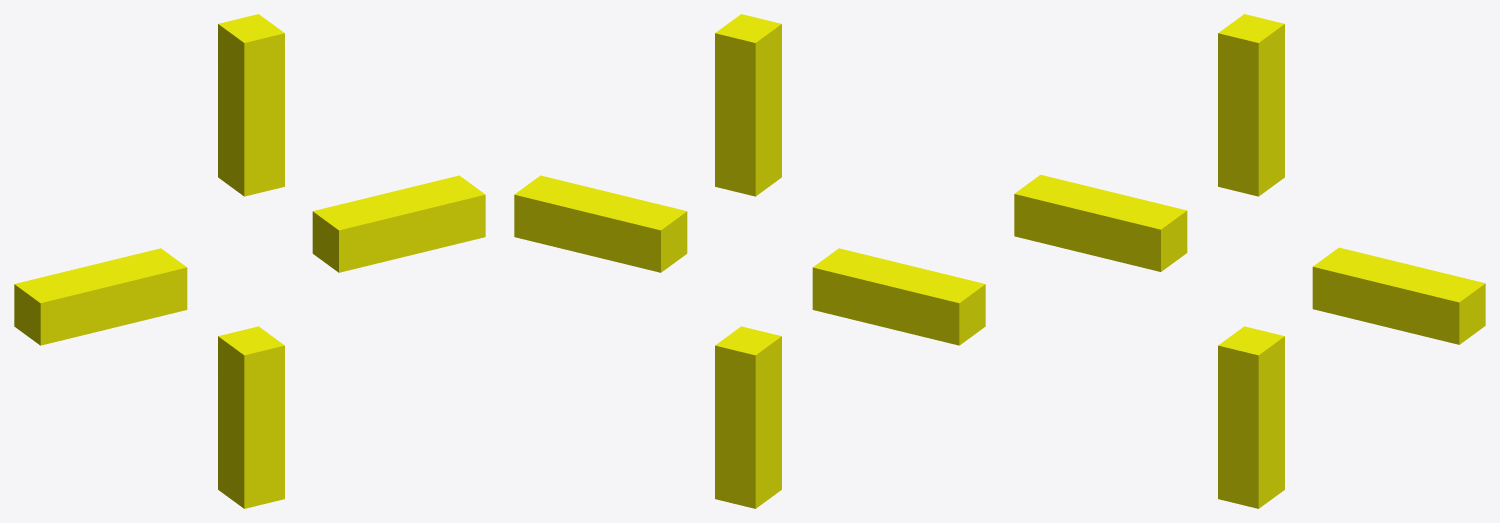
The model's file is crosshair.obj.
3 renders of one model, left to right at view 1: azimuth 30°, elevation 25°; view 2: azimuth 150°, elevation 25°; view 3: azimuth 330°, elevation 25°, orthographic.
Parts seen in each view (by area): view 1: object_1, object_2, object_4, object_3; view 2: object_1, object_2, object_4, object_3; view 3: object_2, object_1, object_3, object_4.
Part boxes in pixels (x1,y1,x2,y2): object_1: [218, 14, 284, 196]; object_2: [218, 326, 284, 508]; object_4: [14, 248, 187, 345]; object_3: [312, 175, 485, 272]; object_1: [715, 14, 781, 196]; object_2: [715, 326, 781, 508]; object_4: [812, 248, 985, 345]; object_3: [514, 175, 687, 272]; object_2: [1218, 326, 1284, 508]; object_1: [1218, 14, 1284, 196]; object_3: [1312, 247, 1485, 344]; object_4: [1014, 174, 1187, 271].
Bounding box in the file's own units: 1.98 × 1.98 × 0.2024.
